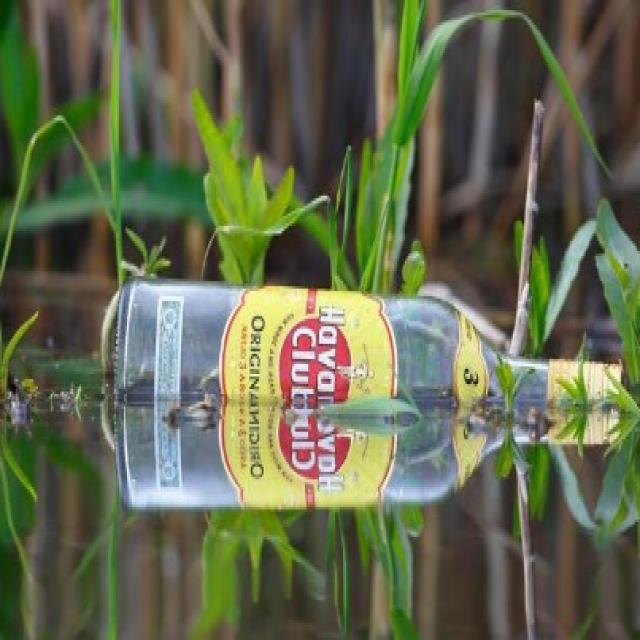electronic: (101, 283, 628, 409)
